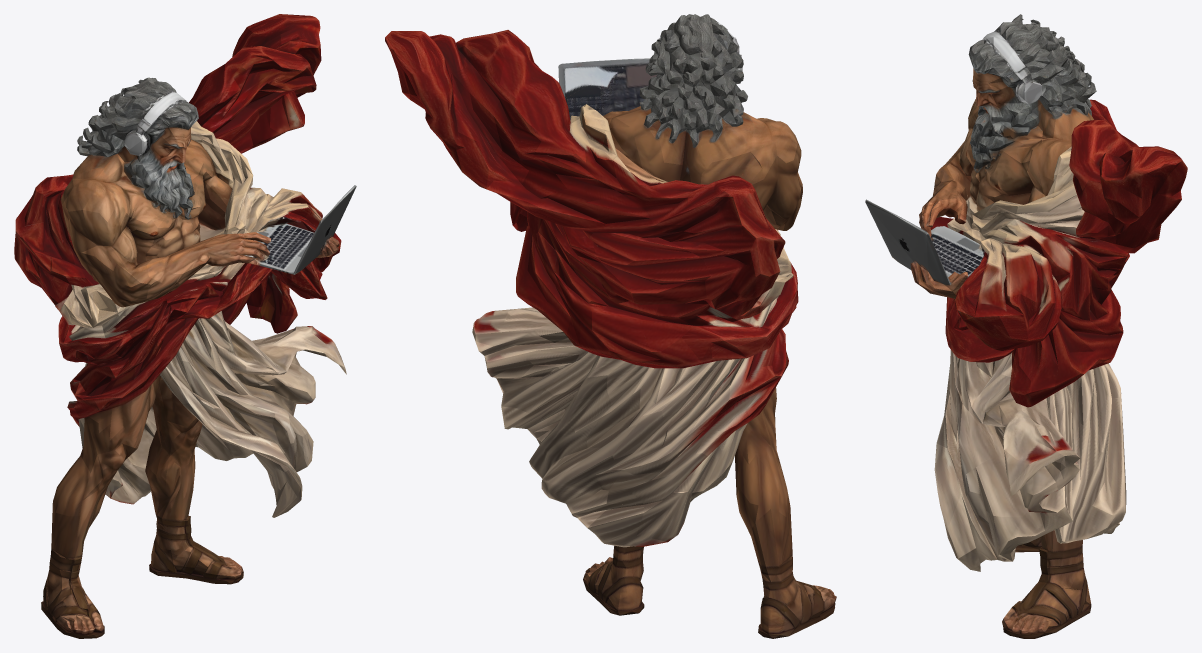
The model's file is Meshy_AI_Tech_Philosopher_Stat_1022154612_image-to-3d-texture-compressed.glb.
3 renders of one model, left to right at view 1: azimuth 30°, elevation 25°; view 2: azimuth 150°, elevation 25°; view 3: azimuth 270°, elevation 25°, orthographic. The views are drawn at different scales.
Visible parts, largest first — view 1: output_unwrapped; view 2: output_unwrapped; view 3: output_unwrapped.
Boxes of the visible parts, left/top/right/bottom form: output_unwrapped: left=14, top=14, right=356, bottom=638; output_unwrapped: left=385, top=14, right=836, bottom=638; output_unwrapped: left=865, top=14, right=1187, bottom=638.
Bounding box in the file's own units: 0.0528 × 0.08 × 0.0413.
Materials: 1 (1 with a texture image).
